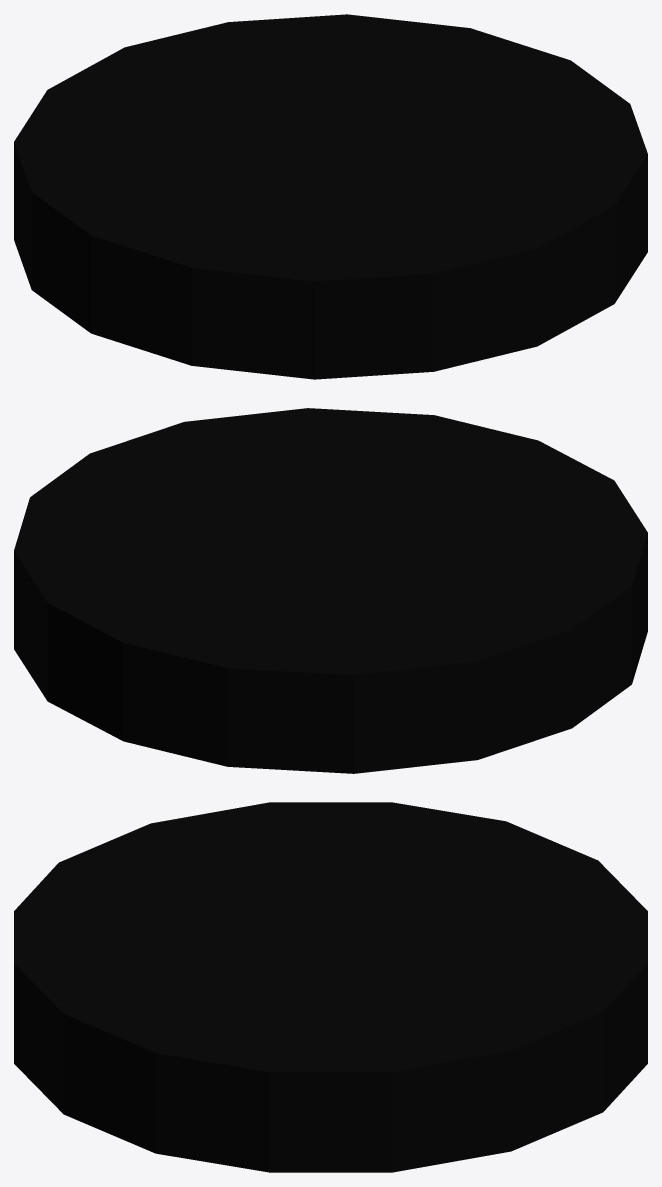
The model's file is Ring.glb.
The picture shows the model from 3 angles, top to bottom: view 1: azimuth 30°, elevation 25°; view 2: azimuth 150°, elevation 25°; view 3: azimuth 270°, elevation 25°; orthographic projection. The views are drawn at different scales.
Parts seen in each view (by area): view 1: Ring; view 2: Ring; view 3: Ring.
Boxes of the visible parts, x1,y1,x2,y2 form: Ring: [14, 14, 647, 379]; Ring: [14, 408, 647, 773]; Ring: [14, 802, 647, 1172].
Size of the model in its own units: 736 by 128 by 731.
1 material, 1 textured.
